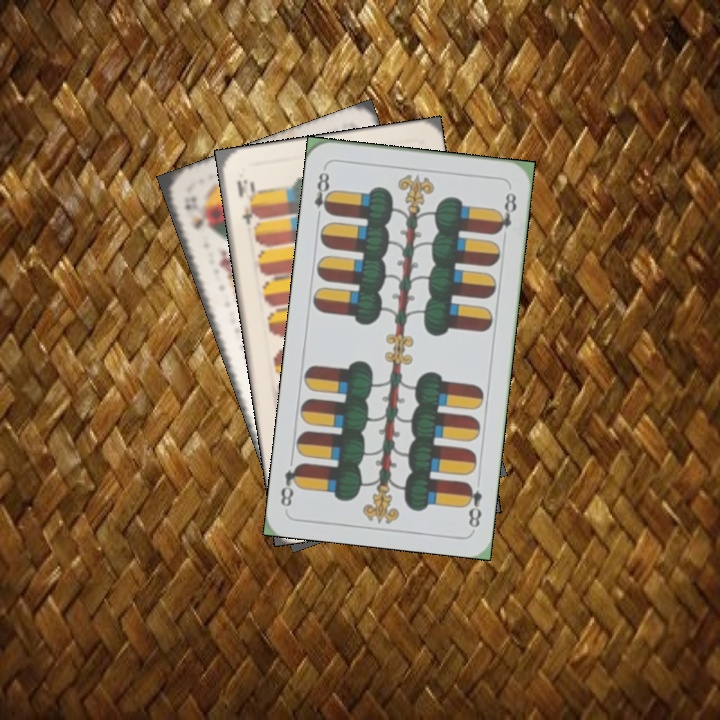E10: (232, 175, 259, 227)
E8: (310, 163, 336, 222), (460, 478, 485, 531)
SK: (179, 192, 207, 232)
